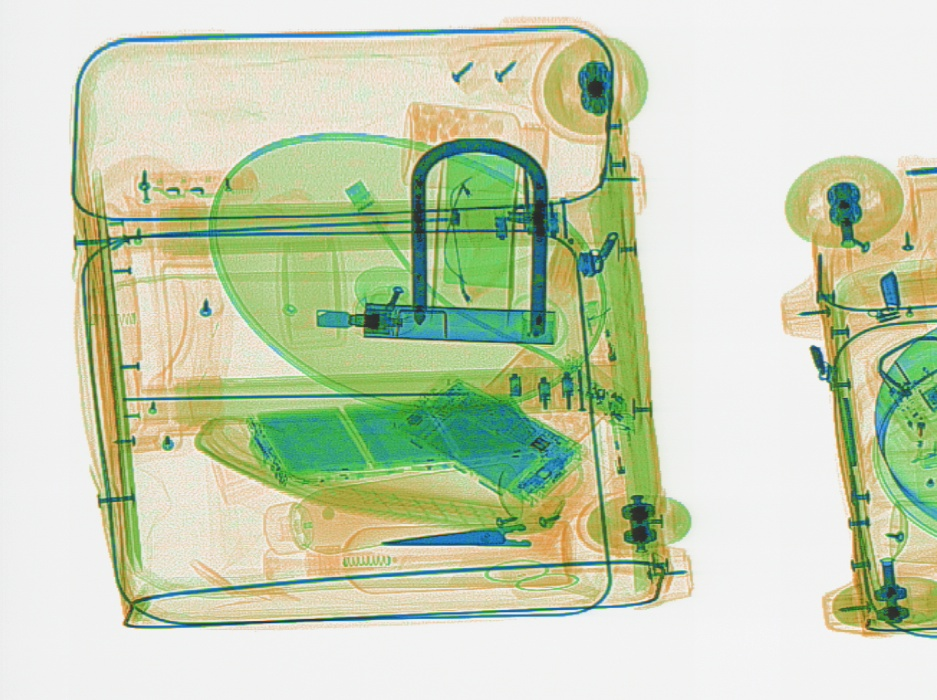lighter: (579, 295, 620, 385), (604, 392, 636, 476)
pressure: (261, 462, 523, 556)
scissors: (379, 496, 617, 586)
